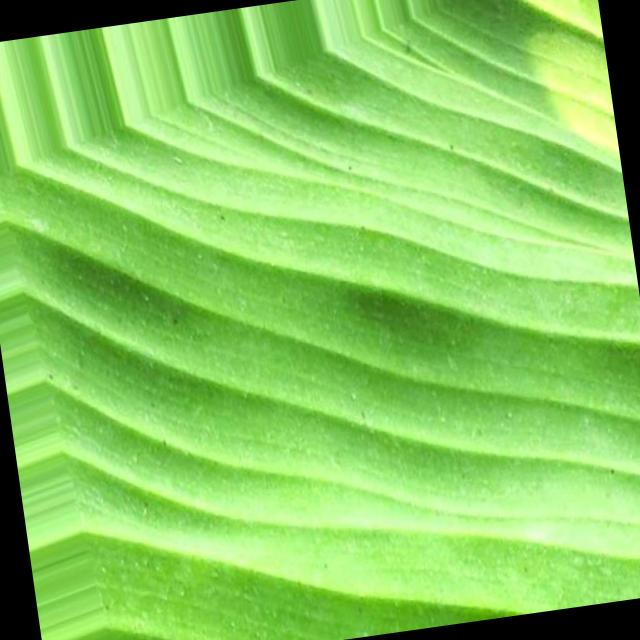Banana_Healthy: (128, 127, 584, 567)
